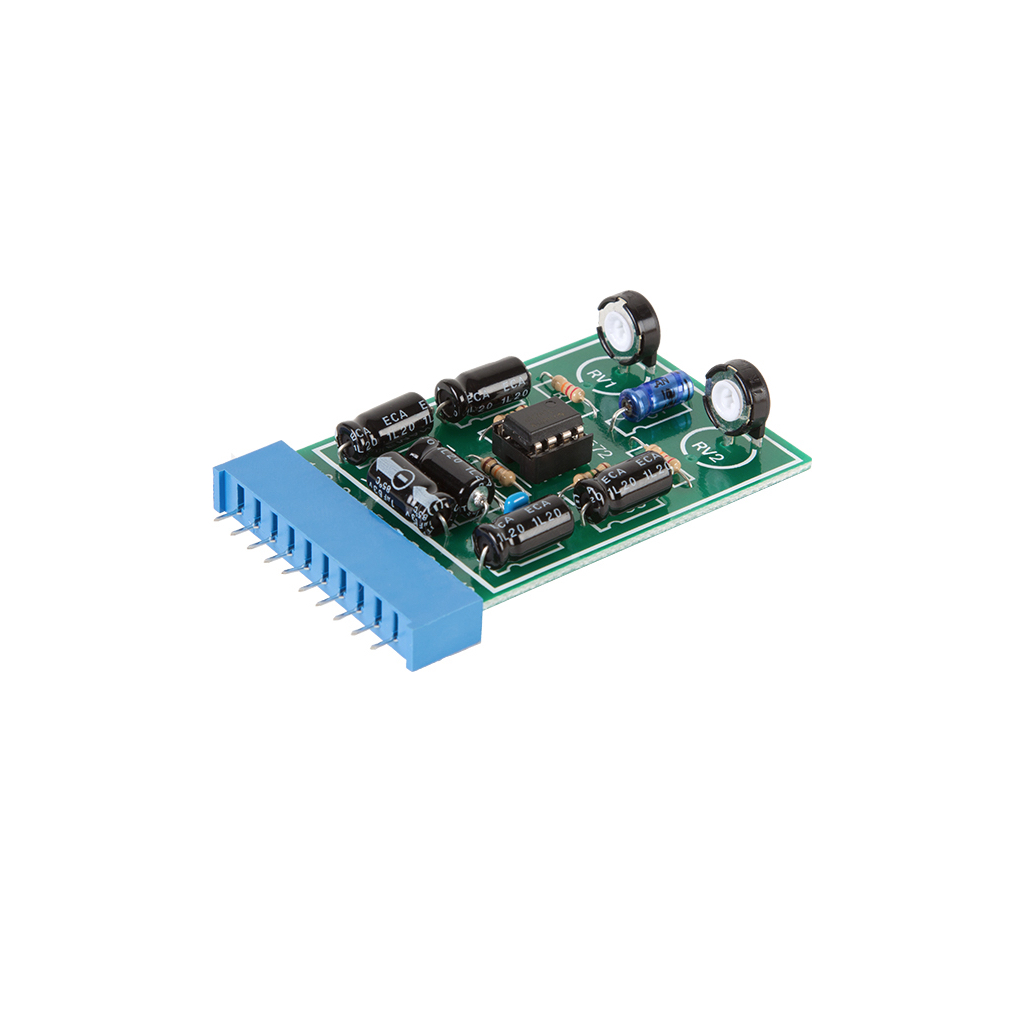Capacitor: (469, 492, 575, 574), (362, 448, 457, 538), (333, 391, 436, 465), (572, 451, 674, 525), (406, 435, 495, 519), (434, 353, 533, 423), (617, 367, 697, 424)
Resistor: (643, 440, 686, 477), (479, 455, 520, 492), (548, 372, 591, 407), (567, 460, 613, 491), (490, 402, 531, 431)
